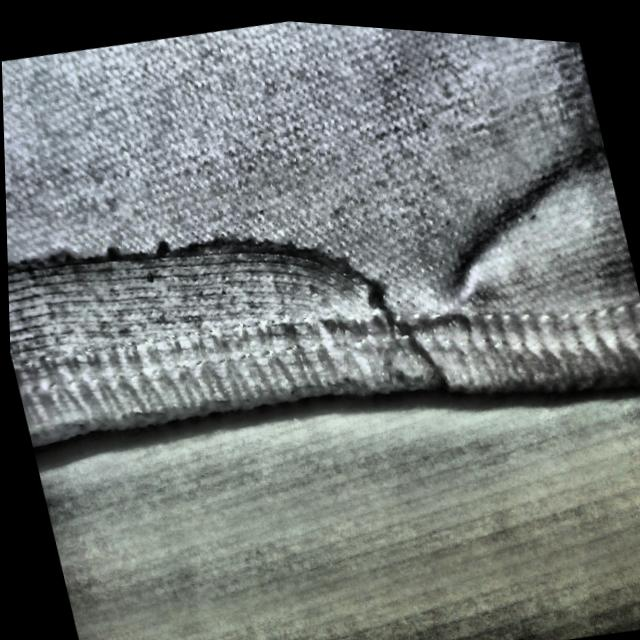seam: (3, 118, 419, 471)
